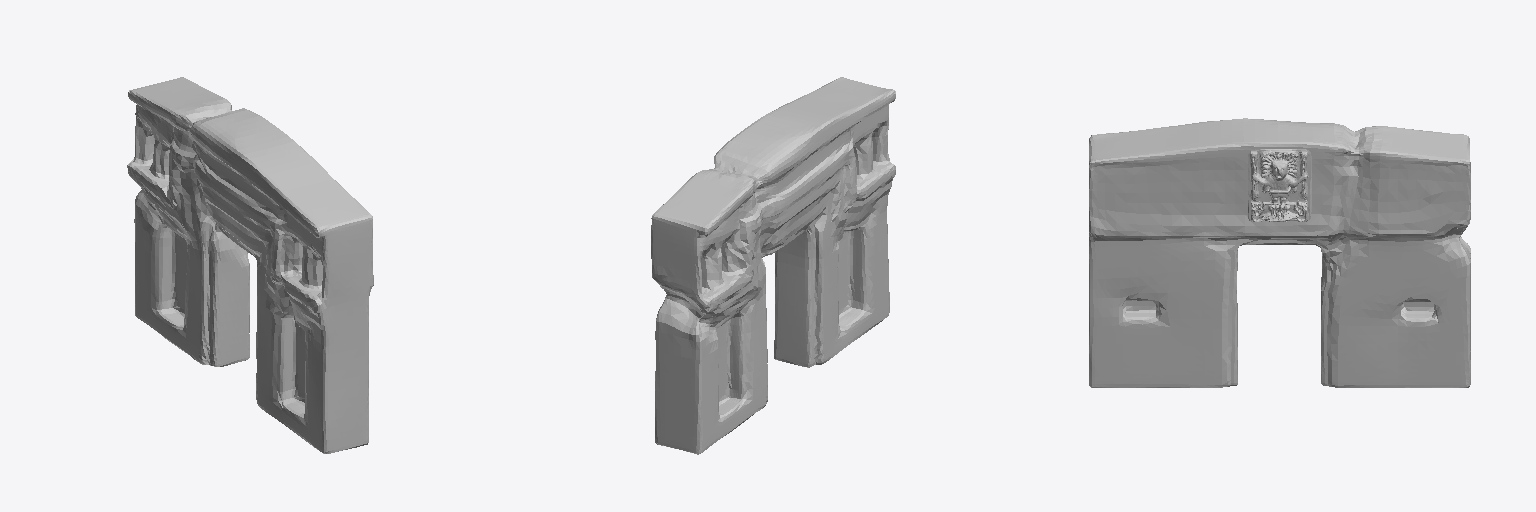
Rendered from SunGate.obj.
3 views of the same model, side by side, from view 1: azimuth 30°, elevation 25°; view 2: azimuth 150°, elevation 25°; view 3: azimuth 270°, elevation 25° (orthographic).
Parts seen in each view (by area): view 1: sun_gate; view 2: sun_gate; view 3: sun_gate.
Part boxes in pixels (x1,y1,x2,y2): sun_gate: (127, 77, 373, 453); sun_gate: (651, 77, 895, 454); sun_gate: (1089, 118, 1470, 387).
Bounding box in the file's own units: 0.8511 × 2.88 × 4.04.